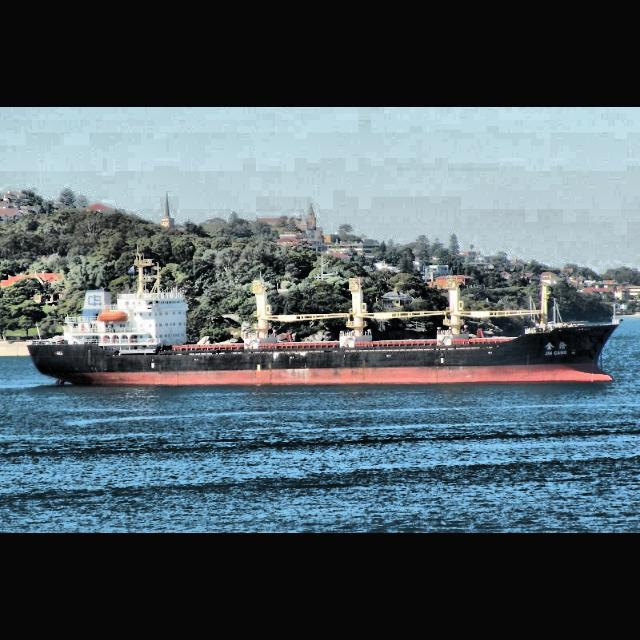bulk_carrier: (25, 240, 623, 388)
